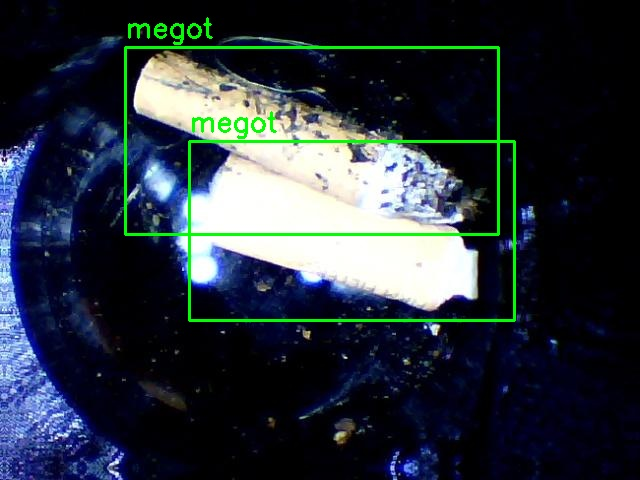megot: (125, 47, 498, 234), (189, 141, 514, 320)
